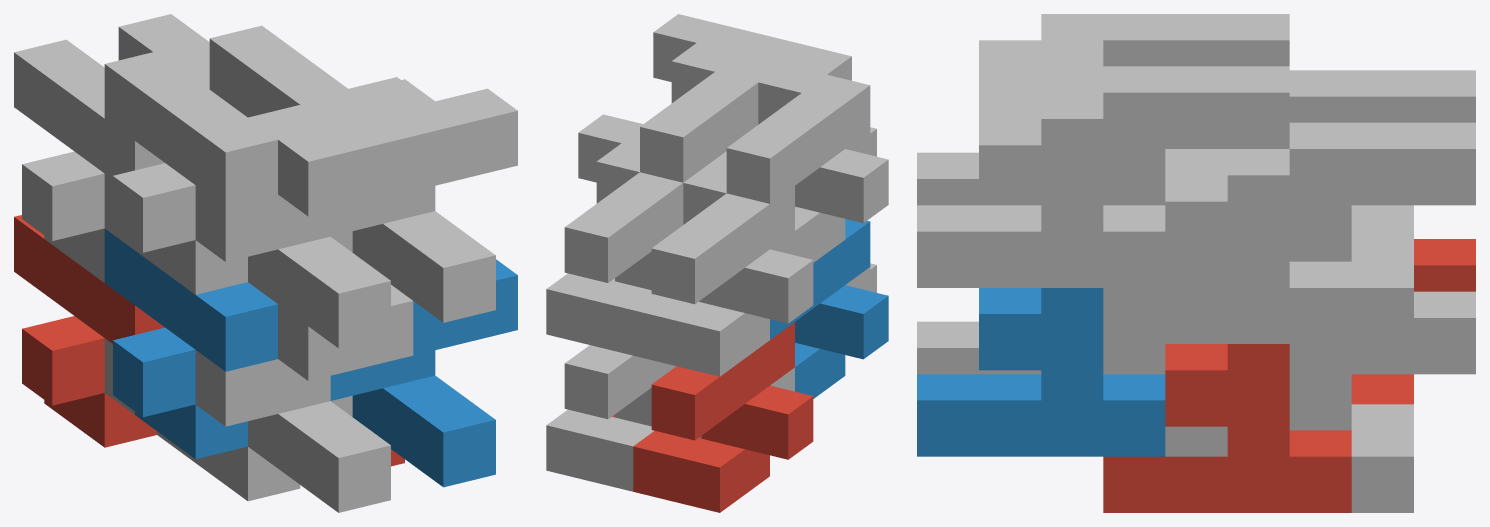
Rendered from tiling.obj.
3 views of the same model, side by side, from view 1: azimuth 30°, elevation 25°; view 2: azimuth 150°, elevation 25°; view 3: azimuth 270°, elevation 25° (orthographic). The views are drawn at different scales.
Parts seen in each view (by area): view 1: copy_2_domain_4, copy_1_domain_4, copy_2_domain_8, copy_2_domain_2, copy_1_domain_2, copy_1_domain_3, copy_2_domain_6, copy_1_domain_1, copy_1_domain_8, copy_2_domain_1, copy_1_domain_7, copy_2_domain_3; view 2: copy_1_domain_3, copy_1_domain_1, copy_1_domain_4, copy_1_domain_7, copy_1_domain_5, copy_1_domain_2, copy_1_domain_8, copy_2_domain_8, copy_2_domain_4, copy_2_domain_7, copy_2_domain_3, copy_2_domain_2; view 3: copy_2_domain_8, copy_2_domain_6, copy_2_domain_7, copy_2_domain_5, copy_1_domain_7, copy_1_domain_8, copy_1_domain_5, copy_1_domain_3, copy_1_domain_4, copy_2_domain_4, copy_1_domain_1, copy_1_domain_6 (+1 smaller).
Boxes of the visible parts, box(x1,y1,x2,y2) form: copy_2_domain_4: box(195, 105, 413, 348); copy_1_domain_4: box(104, 51, 277, 294); copy_2_domain_8: box(330, 79, 517, 322); copy_2_domain_2: box(195, 285, 413, 512); copy_1_domain_2: box(104, 228, 277, 459); copy_1_domain_3: box(14, 39, 164, 282); copy_2_domain_6: box(330, 259, 517, 487); copy_1_domain_1: box(14, 215, 164, 447); copy_1_domain_8: box(209, 25, 382, 252); copy_2_domain_1: box(104, 338, 300, 501); copy_1_domain_7: box(118, 14, 209, 89); copy_2_domain_3: box(104, 174, 134, 250); copy_1_domain_3: box(633, 186, 813, 376); copy_1_domain_1: box(633, 322, 813, 512); copy_1_domain_4: box(726, 74, 888, 262); copy_1_domain_7: box(546, 172, 701, 355); copy_1_domain_5: box(546, 345, 701, 491); copy_1_domain_2: box(770, 219, 888, 398); copy_1_domain_8: box(640, 53, 782, 182); copy_2_domain_8: box(653, 14, 764, 102); copy_2_domain_4: box(740, 35, 876, 156); copy_2_domain_7: box(578, 114, 642, 281); copy_2_domain_3: box(683, 151, 794, 255); copy_2_domain_2: box(845, 263, 876, 292); copy_2_domain_8: box(917, 92, 1165, 287); copy_2_domain_6: box(917, 288, 1165, 456); copy_2_domain_7: box(1103, 149, 1351, 343); copy_2_domain_5: box(1103, 344, 1351, 512); copy_1_domain_7: box(1289, 122, 1475, 343); copy_1_domain_8: box(1041, 66, 1289, 287); copy_1_domain_5: box(1289, 291, 1475, 512); copy_1_domain_3: box(1289, 70, 1475, 235); copy_1_domain_4: box(1041, 14, 1289, 66); copy_2_domain_4: box(917, 40, 1103, 205); copy_1_domain_1: box(1351, 239, 1475, 404); copy_1_domain_6: box(1103, 344, 1227, 456).
Bounding box in the file's own units: 6 × 7 × 9.
